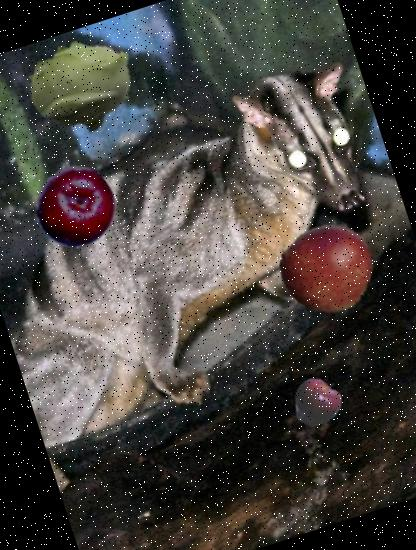Apple: (285, 370, 349, 434)
Kohlrabi: (14, 16, 153, 155)
Nectarine: (268, 210, 384, 326)
Plum: (24, 153, 130, 260)
